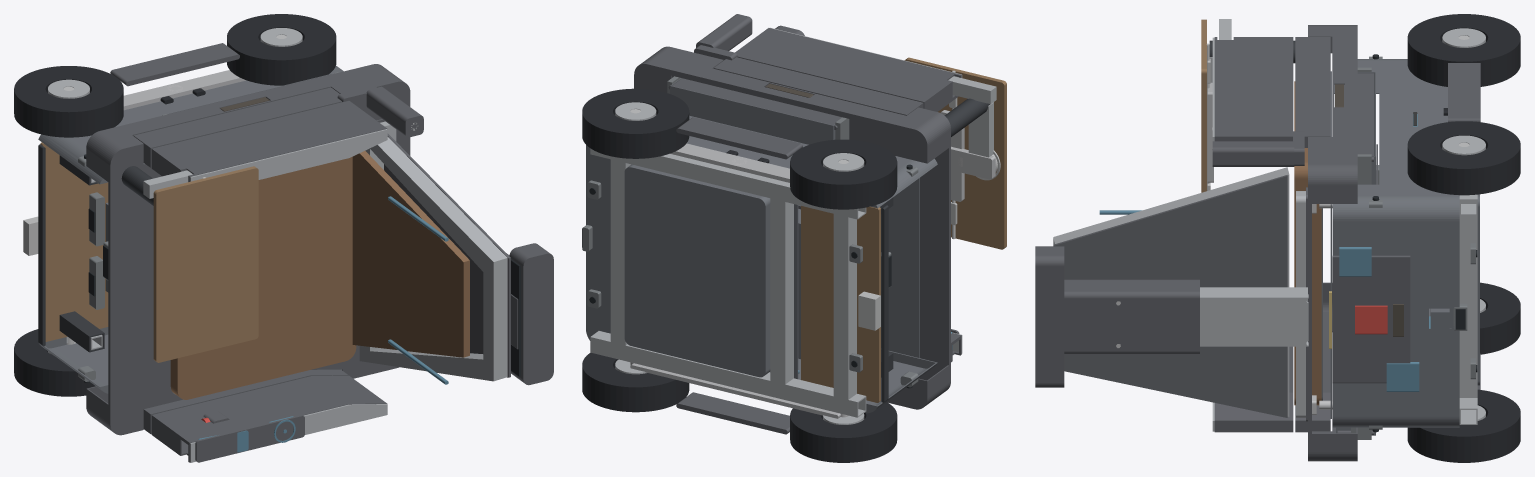
Rendered from workcore_e6_dfr4_cafe.glb.
The picture shows the model from 3 angles, left to right: view 1: azimuth 30°, elevation 25°; view 2: azimuth 150°, elevation 25°; view 3: azimuth 270°, elevation 25°; orthographic projection. The views are drawn at different scales.
Parts seen in each view (by area): view 1: seat_cushion_envelope, upper_deck_panel, desk_panel_right, backrest_cushion_envelope, backrest_structural_carrier, armrest_shell_right, footrest_platform_stowed, armrest_shell_left, tyre_front_right, tyre_rear_right, lower_body_enclosure, sensor_beam_shell_stowed (+20 smaller); view 2: battery_safety_cassette, upper_deck_panel, footrest_platform_stowed, lower_body_enclosure, armrest_shell_right, tyre_front_right, tyre_rear_right, occupant_energy_firewall, chassis_rail_left, desk_panel_right, tyre_front_left, chassis_crossmember_2 (+21 smaller); view 3: backrest_rear_cosmetic_shell, lower_body_enclosure, mast_outer_cosmetic_shroud_stowed, upper_deck_panel, armrest_shell_right, service_rear_flush_door, tyre_rear_right, mast_inner_stowed, tyre_front_right, tyre_rear_left, sensor_beam_shell_stowed, armrest_base_shell_right (+19 smaller).
Boxes of the visible parts, left/top/right/bottom form: seat_cushion_envelope: left=170, top=156, right=356, bottom=399; upper_deck_panel: left=86, top=64, right=410, bottom=435; desk_panel_right: left=153, top=166, right=258, bottom=362; backrest_cushion_envelope: left=352, top=151, right=469, bottom=357; backrest_structural_carrier: left=359, top=137, right=507, bottom=381; armrest_shell_right: left=151, top=101, right=387, bottom=181; footrest_platform_stowed: left=40, top=142, right=108, bottom=341; armrest_shell_left: left=151, top=375, right=387, bottom=462; tyre_front_right: left=14, top=66, right=123, bottom=137; tyre_rear_right: left=227, top=14, right=336, bottom=85; lower_body_enclosure: left=38, top=66, right=343, bottom=393; sensor_beam_shell_stowed: left=509, top=243, right=553, bottom=385; battery_safety_cassette: left=624, top=164, right=770, bottom=377; upper_deck_panel: left=634, top=46, right=950, bottom=409; footrest_platform_stowed: left=801, top=206, right=880, bottom=402; lower_body_enclosure: left=586, top=115, right=937, bottom=413; armrest_shell_right: left=735, top=28, right=961, bottom=111; tyre_front_right: left=790, top=139, right=897, bottom=209; tyre_rear_right: left=582, top=88, right=689, bottom=158; occupant_energy_firewall: left=881, top=178, right=919, bottom=357; chassis_rail_left: left=590, top=331, right=866, bottom=417; desk_panel_right: left=904, top=57, right=1006, bottom=249; tyre_front_left: left=790, top=402, right=897, bottom=462; chassis_crossmember_2: left=770, top=191, right=793, bottom=391; backrest_rear_cosmetic_shell: left=1053, top=175, right=1287, bottom=417; lower_body_enclosure: left=1332, top=59, right=1459, bottom=427; mast_outer_cosmetic_shroud_stowed: left=1064, top=279, right=1199, bottom=354; upper_deck_panel: left=1308, top=25, right=1357, bottom=461; armrest_shell_right: left=1214, top=37, right=1293, bottom=141; service_rear_flush_door: left=1332, top=255, right=1410, bottom=383; tyre_rear_right: left=1407, top=121, right=1520, bottom=195; mast_inner_stowed: left=1200, top=287, right=1308, bottom=346; tyre_front_right: left=1407, top=14, right=1520, bottom=86; tyre_rear_left: left=1407, top=389, right=1520, bottom=462; sensor_beam_shell_stowed: left=1035, top=246, right=1064, bottom=387; armrest_base_shell_right: left=1295, top=37, right=1330, bottom=147.
Bounding box in the file's own units: 0.8558 × 0.735 × 1.07.
